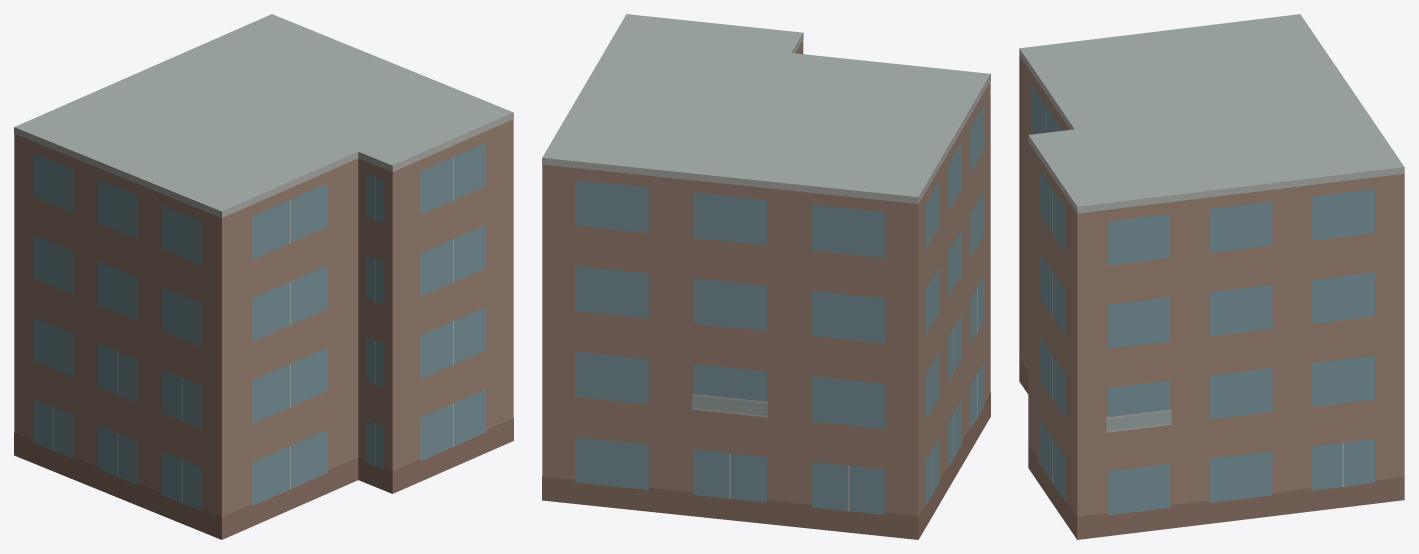
File: residential-c3dba1c8-8b23-41ee-95f2-960a4b33754f.glb
3 views of the same model, side by side, from view 1: azimuth 30°, elevation 25°; view 2: azimuth 150°, elevation 25°; view 3: azimuth 270°, elevation 25° (orthographic). The views are drawn at different scales.
Visible parts, largest first — view 1: residential-c3dba1c8-8b23-41ee-95f2-960a4b33754f.tmp; view 2: residential-c3dba1c8-8b23-41ee-95f2-960a4b33754f.tmp; view 3: residential-c3dba1c8-8b23-41ee-95f2-960a4b33754f.tmp.
Boxes of the visible parts, x1,y1,x2,y2 form: residential-c3dba1c8-8b23-41ee-95f2-960a4b33754f.tmp: [14, 14, 513, 539]; residential-c3dba1c8-8b23-41ee-95f2-960a4b33754f.tmp: [542, 14, 990, 539]; residential-c3dba1c8-8b23-41ee-95f2-960a4b33754f.tmp: [1019, 14, 1404, 539].
Bounding box in the file's own units: 15.16 × 12.2 × 12.8.
